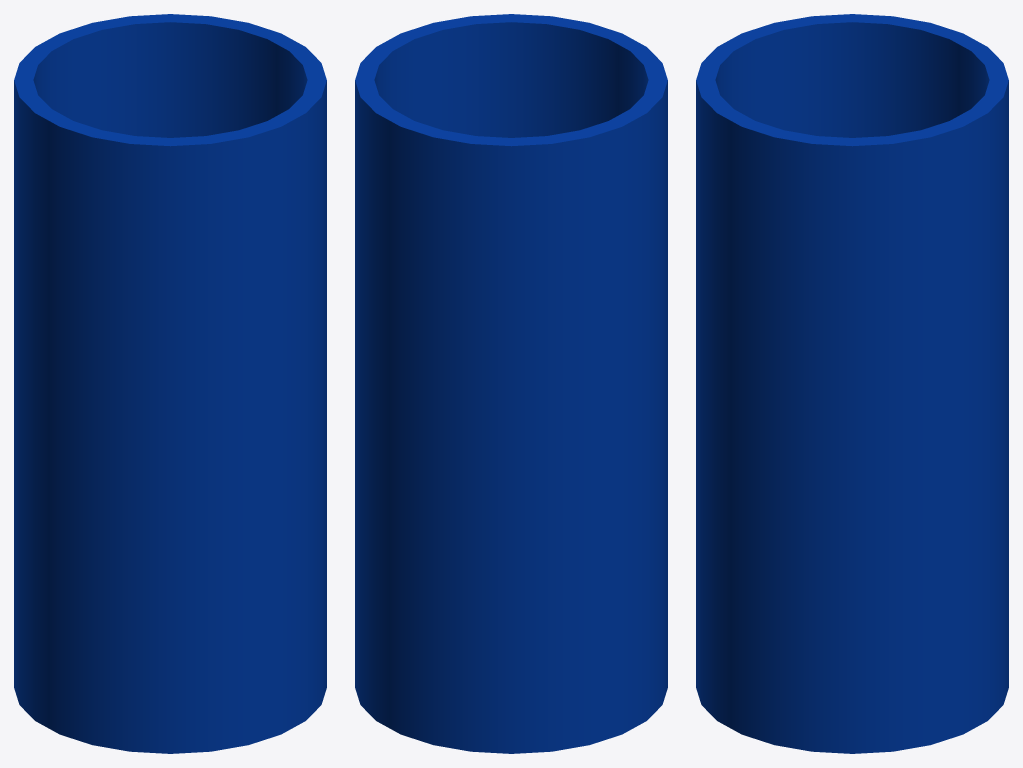
File: SM_TubeDroit.FBX
3 renders of one model, left to right at view 1: azimuth 30°, elevation 25°; view 2: azimuth 150°, elevation 25°; view 3: azimuth 270°, elevation 25°, orthographic.
Visible parts, largest first — view 1: SM_TubeDroit; view 2: SM_TubeDroit; view 3: SM_TubeDroit.
Part boxes in pixels (x1,y1,x2,y2): SM_TubeDroit: (14,14,326,753); SM_TubeDroit: (355,14,667,753); SM_TubeDroit: (696,14,1008,753).
Bounding box in the file's own units: 93.28 × 93.28 × 200.
